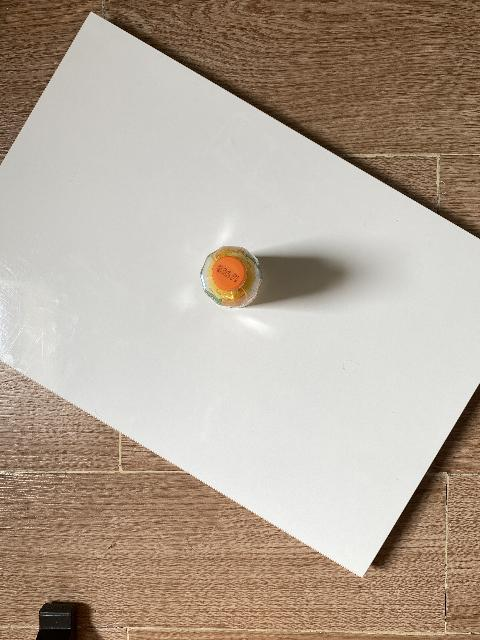teppy_orange_juice: (200, 246, 263, 308)
